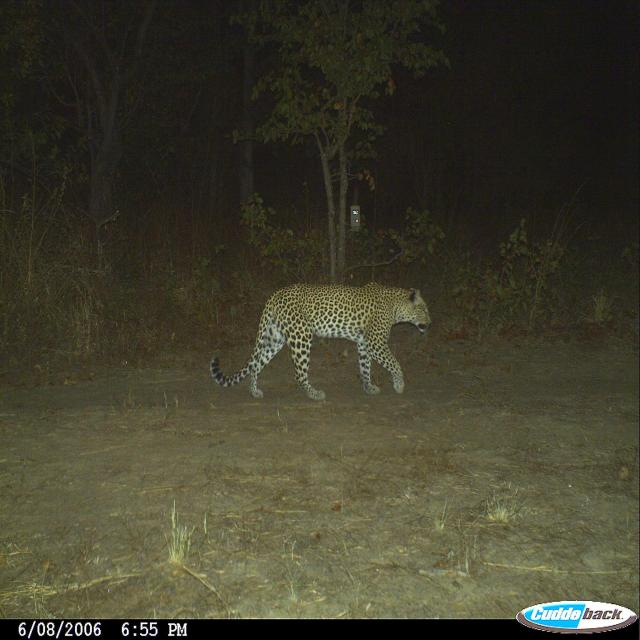Leopard: (199, 281, 440, 405)
